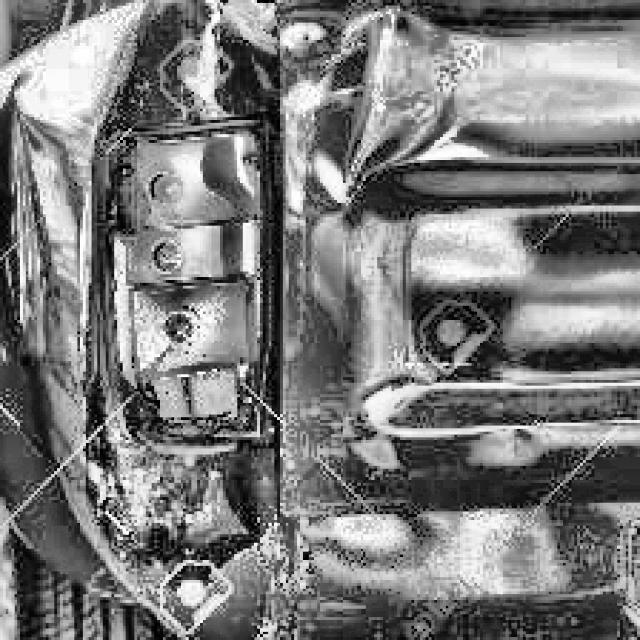bumper_dent: (324, 195, 508, 442), (309, 18, 444, 179)
tail_lamp: (99, 135, 261, 446)
